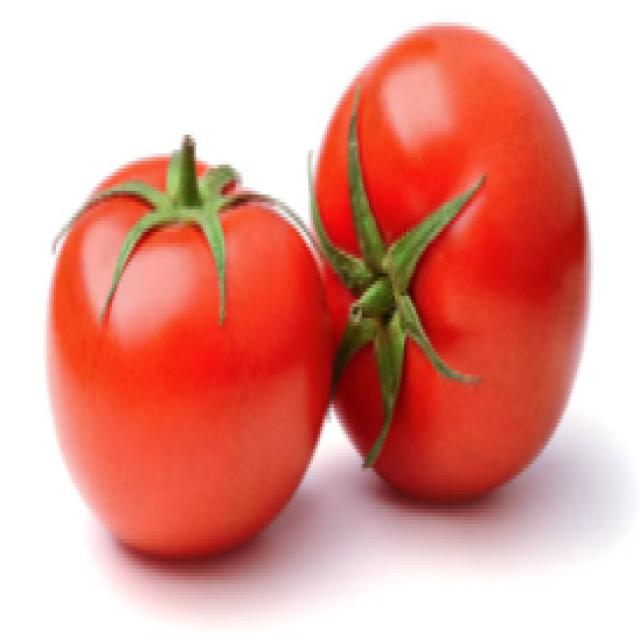Tomato: (30, 110, 338, 588), (297, 32, 598, 498)
